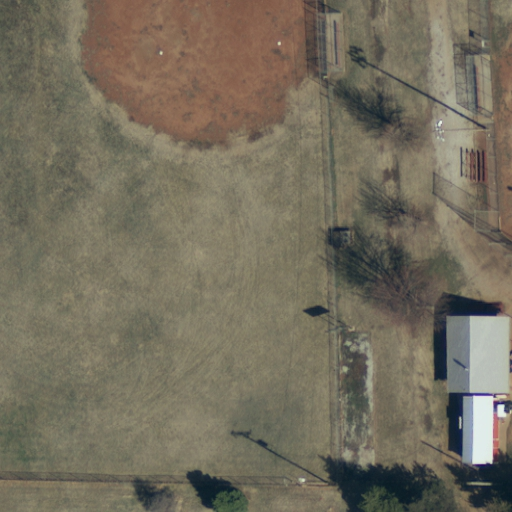DT: (287, 473, 340, 496), (461, 472, 499, 498)
